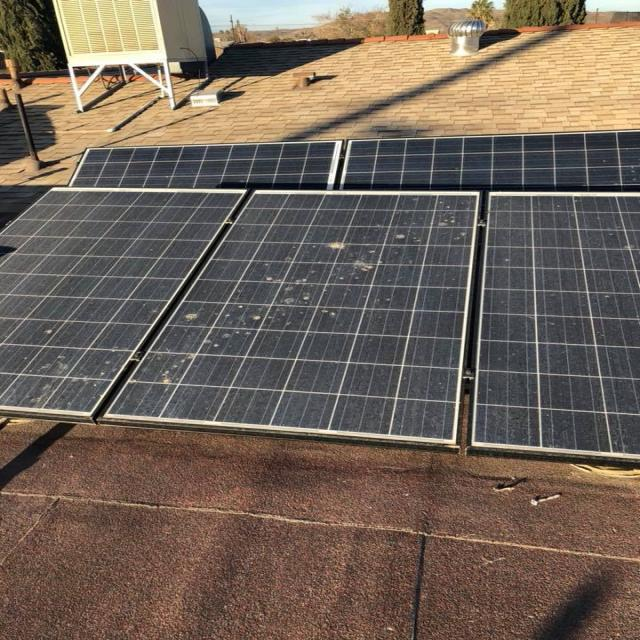faulty: (111, 193, 476, 442), (2, 192, 238, 420), (473, 200, 640, 450), (153, 150, 558, 189), (598, 157, 640, 190)
